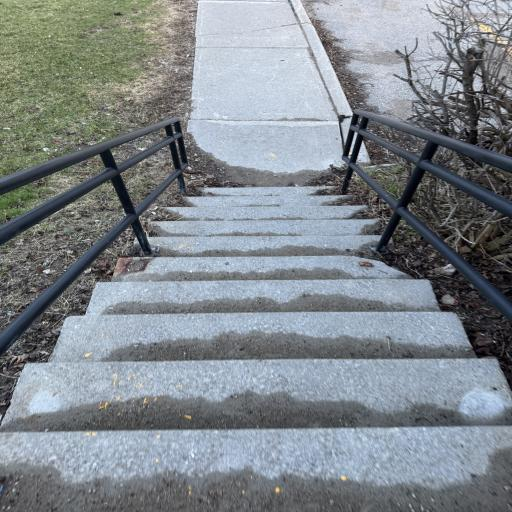Stairs: (0, 187, 512, 512)
